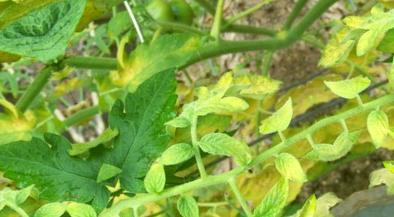Tomato leaf yellow virus: (80, 6, 239, 117), (192, 109, 258, 177), (136, 130, 203, 183), (235, 169, 300, 217), (266, 143, 314, 194)
